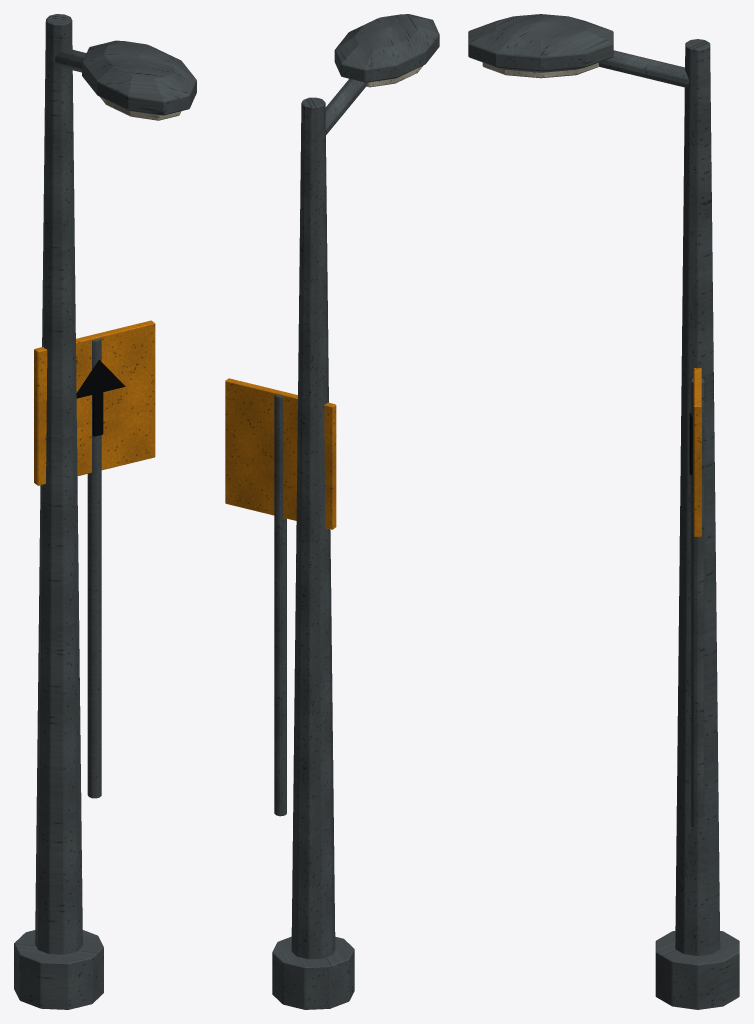
The model's file is PROP-6E3ED951E87E_lod1.glb.
3 views of the same model, side by side, from view 1: azimuth 30°, elevation 25°; view 2: azimuth 150°, elevation 25°; view 3: azimuth 270°, elevation 25° (orthographic). The views are drawn at different scales.
Visible parts, largest first — view 1: pole.001, sign_plate.001, lamp_head.001, pole_base.001, sign_post.001, direction_symbol.001, lamp_arm.001, symbol_stem.001, light_diffuser.001; view 2: pole.001, sign_plate.001, lamp_head.001, sign_post.001, pole_base.001, lamp_arm.001; view 3: pole.001, lamp_head.001, pole_base.001, sign_post.001, lamp_arm.001, sign_plate.001, light_diffuser.001.
Part boxes in pixels (<box>): pole.001: <box>35,14,82,954</box>; sign_plate.001: <box>34,320,155,485</box>; lamp_head.001: <box>82,40,196,115</box>; pole_base.001: <box>14,930,103,1009</box>; sign_post.001: <box>87,338,101,798</box>; direction_symbol.001: <box>76,360,125,398</box>; lamp_arm.001: <box>55,48,86,72</box>; symbol_stem.001: <box>92,392,103,436</box>; light_diffuser.001: <box>100,97,181,120</box>; pole.001: <box>291,97,335,959</box>; sign_plate.001: <box>225,378,336,529</box>; lamp_head.001: <box>334,14,439,82</box>; sign_post.001: <box>274,394,286,816</box>; pole_base.001: <box>272,936,354,1009</box>; lamp_arm.001: <box>325,79,367,134</box>; pole.001: <box>675,39,720,955</box>; lamp_head.001: <box>468,14,613,72</box>; pole_base.001: <box>655,931,739,1009</box>; sign_post.001: <box>691,378,704,828</box>; lamp_arm.001: <box>599,50,688,87</box>; sign_plate.001: <box>693,368,701,536</box>; light_diffuser.001: <box>482,62,598,78</box>.
Bounding box in the file's own units: 0.7678 × 5.32 × 1.35.
Materials: 4 (4 with a texture image).
